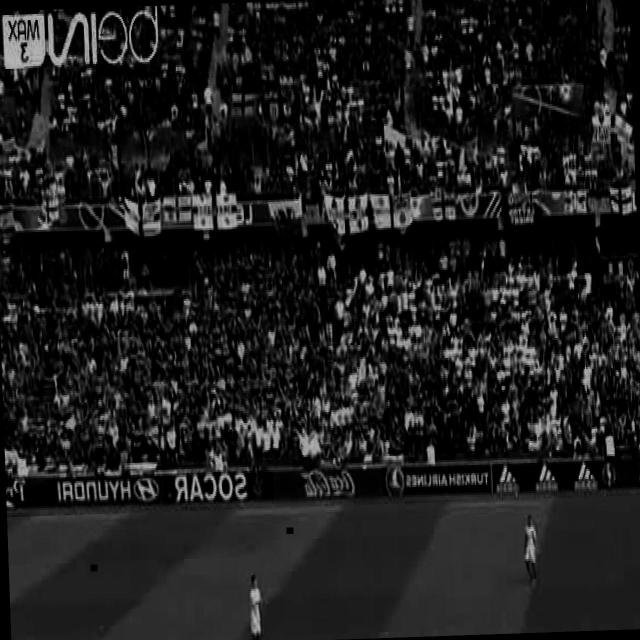player-white: (247, 572, 264, 640), (523, 516, 539, 586)
